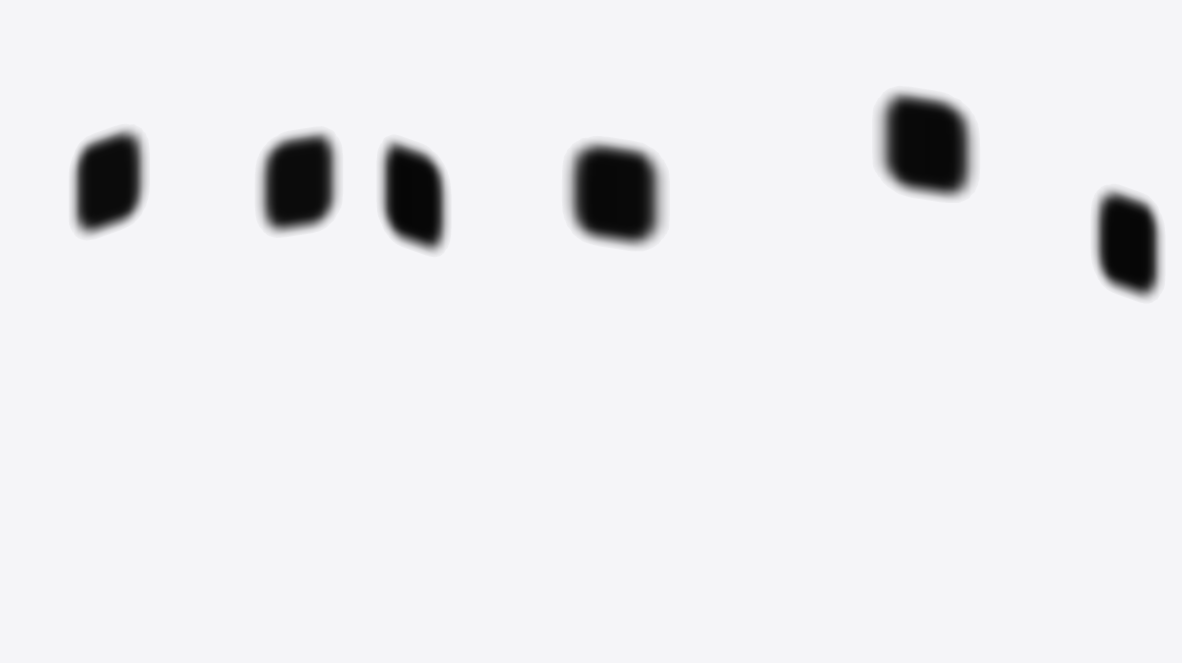
The model's file is 13-long-low-quality-derpy-face-eyes.glb.
3 renders of one model, left to right at view 1: azimuth 30°, elevation 25°; view 2: azimuth 150°, elevation 25°; view 3: azimuth 330°, elevation 25°, orthographic. The views are drawn at different scales.
Visible parts, largest first — view 1: 13-long-low-quality-derpy-face-eyes; view 2: 13-long-low-quality-derpy-face-eyes; view 3: 13-long-low-quality-derpy-face-eyes.
Part boxes in pixels (x1,y1,x2,y2): 13-long-low-quality-derpy-face-eyes: (72,129,338,235); 13-long-low-quality-derpy-face-eyes: (380,140,663,252); 13-long-low-quality-derpy-face-eyes: (878,91,1161,298).
Bounding box in the file's own units: 0.4097 × 0.6012 × 0.0541.
Materials: 1 (1 with a texture image).
